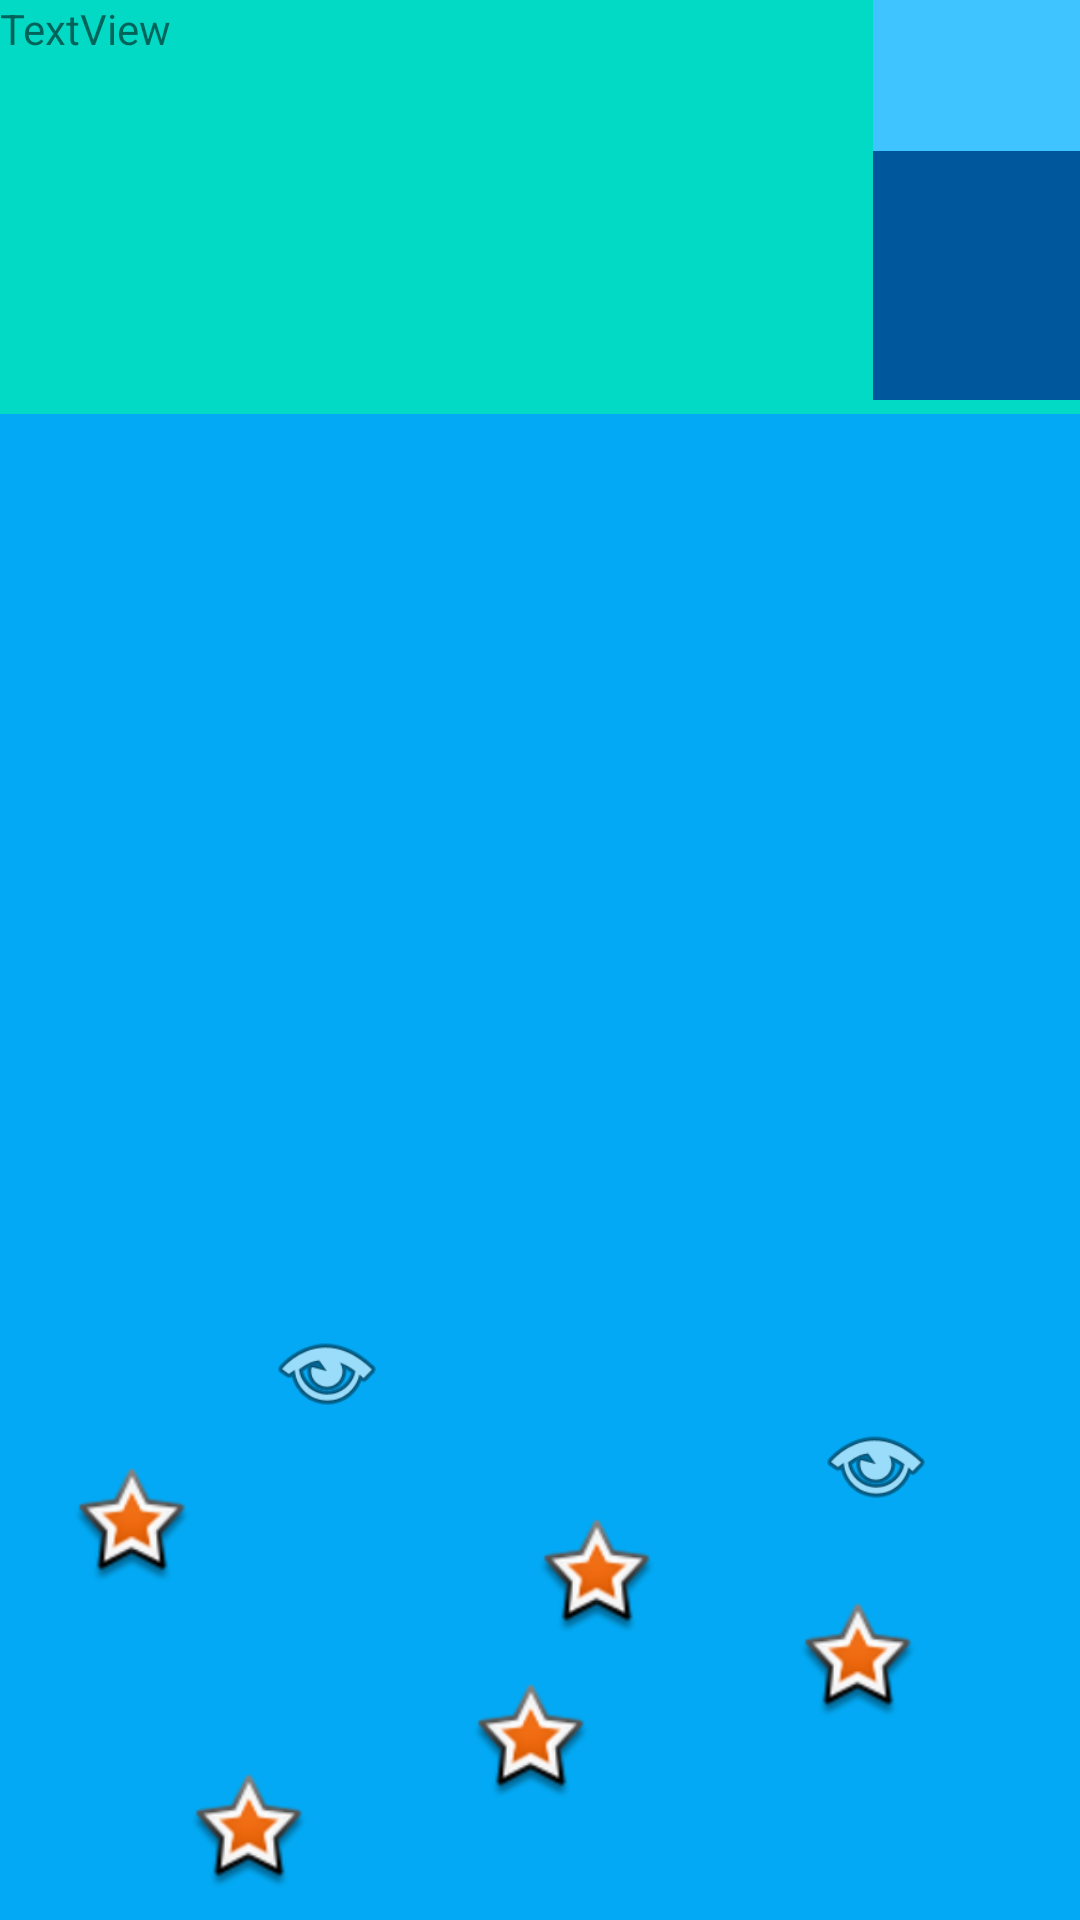

Point at icon controls on the screen. Image size 1080×1920, points as (x=x, y=y).
star on: (x=132, y=1522), (x=597, y=1573), (x=858, y=1657), (x=531, y=1738), (x=249, y=1828)
view: (x=327, y=1374), (x=876, y=1467)
